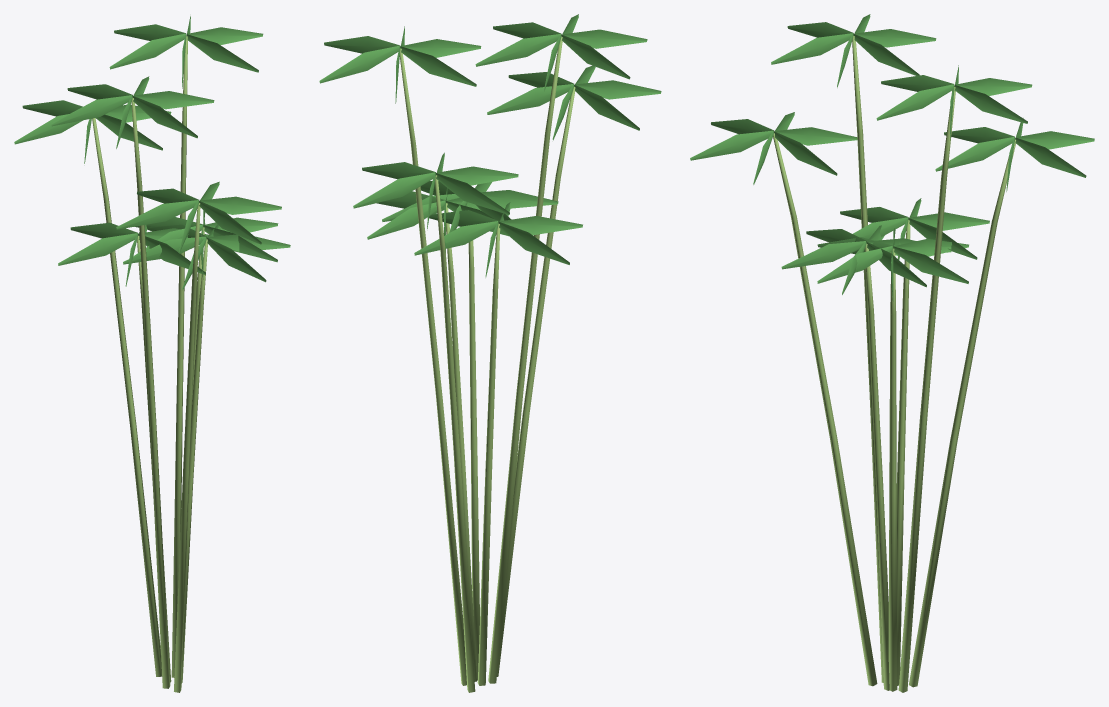
Rendered from shrub_dwarf_bamboo.glb.
The picture shows the model from 3 angles, left to right: view 1: azimuth 30°, elevation 25°; view 2: azimuth 150°, elevation 25°; view 3: azimuth 270°, elevation 25°; orthographic projection. The views are drawn at different scales.
Parts seen in each view (by area): view 1: Flora_Dwarf_Bamboo; view 2: Flora_Dwarf_Bamboo; view 3: Flora_Dwarf_Bamboo.
Part boxes in pixels (<box>): Flora_Dwarf_Bamboo: <box>14,16,290,692</box>; Flora_Dwarf_Bamboo: <box>319,14,661,692</box>; Flora_Dwarf_Bamboo: <box>690,14,1094,692</box>.
Size of the model in its own units: 0.7938 by 1.86 by 1.09.
